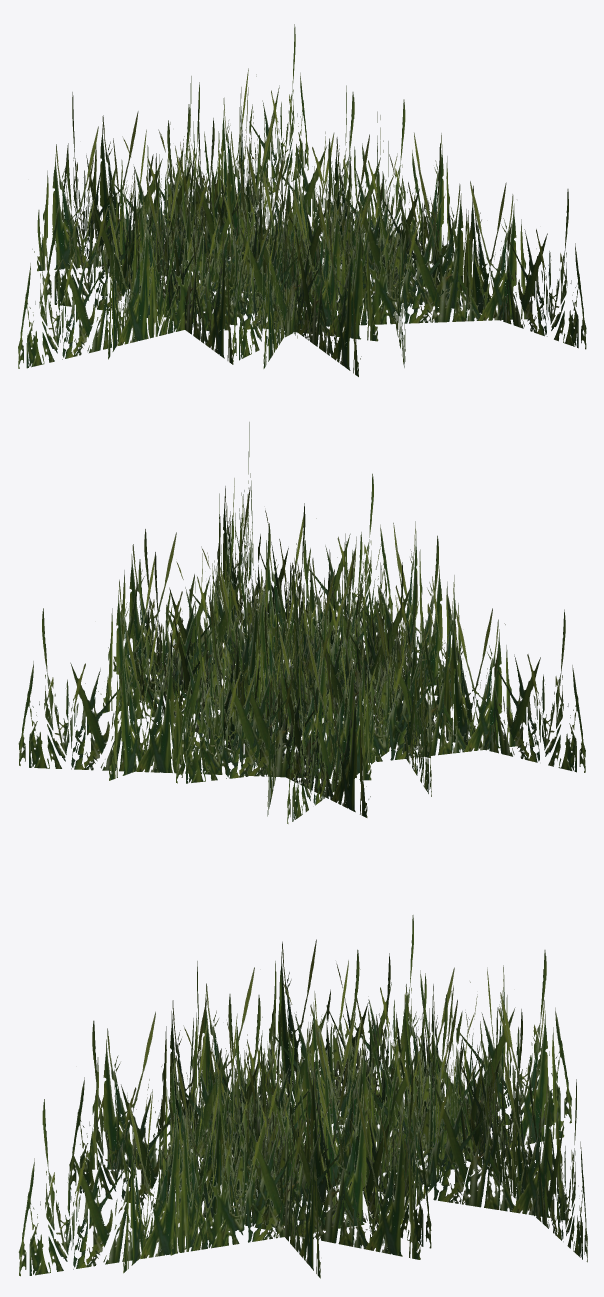
Rendered from SM_Veg_Grass_01.FBX.
3 views of the same model, one above another, from view 1: azimuth 30°, elevation 25°; view 2: azimuth 150°, elevation 25°; view 3: azimuth 270°, elevation 25° (orthographic). The views are drawn at different scales.
Parts seen in each view (by area): view 1: SM_Veg_Grass_01; view 2: SM_Veg_Grass_01; view 3: SM_Veg_Grass_01.
Part boxes in pixels (x1=…): SM_Veg_Grass_01: x1=18, y1=24, x2=586, y2=376; SM_Veg_Grass_01: x1=18, y1=422, x2=585, y2=823; SM_Veg_Grass_01: x1=18, y1=915, x2=587, y2=1278.
Bounding box in the file's own units: 2.06 × 0.6671 × 1.99.
